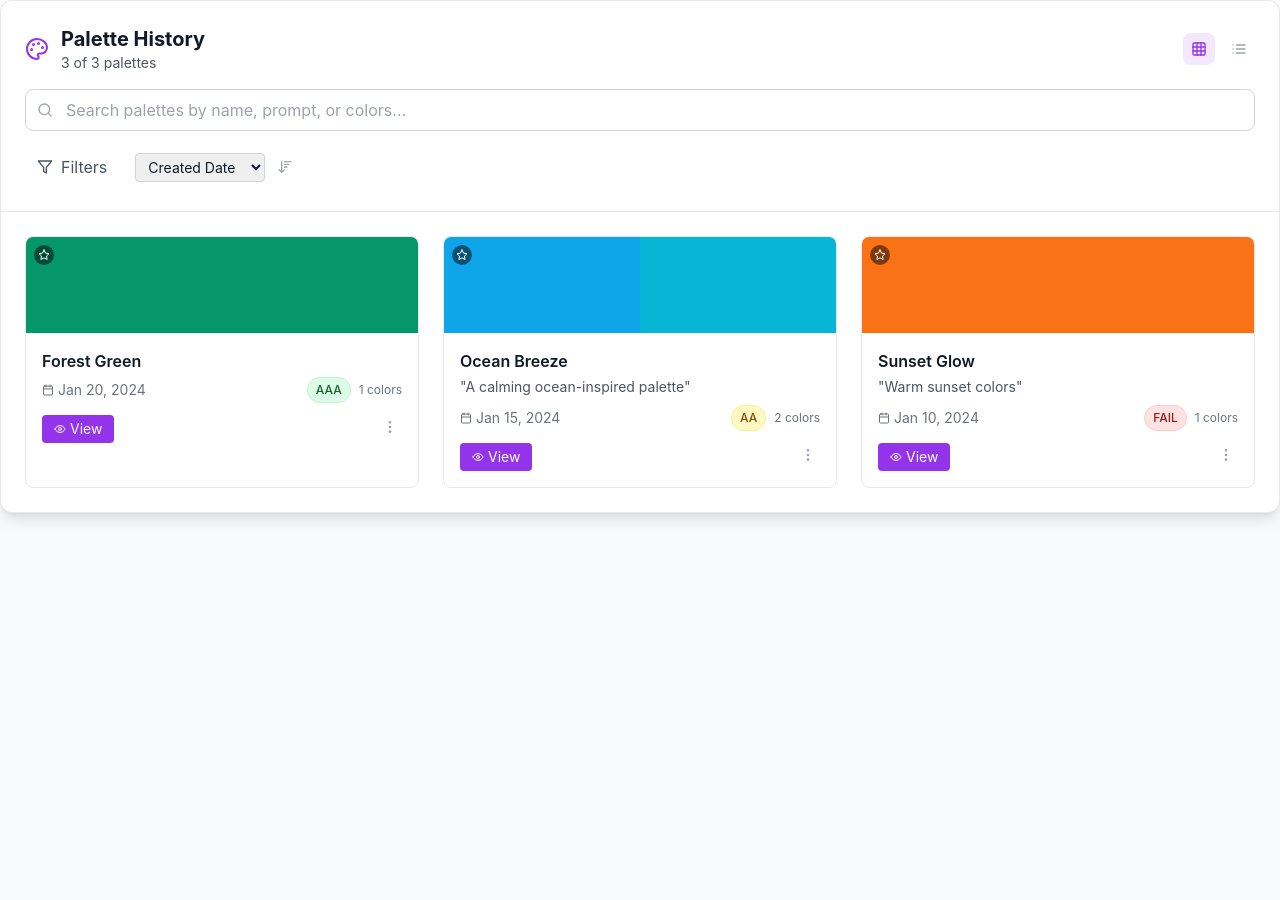
Test case: HistoryPanel › Filter Functionality › clears all filters
# Apply search and filter
Type "Ocean" into the field with placeholder "Search palettes by name, prompt, or colors..." at (640, 110), box x1=25 y1=89 x2=1255 y2=131
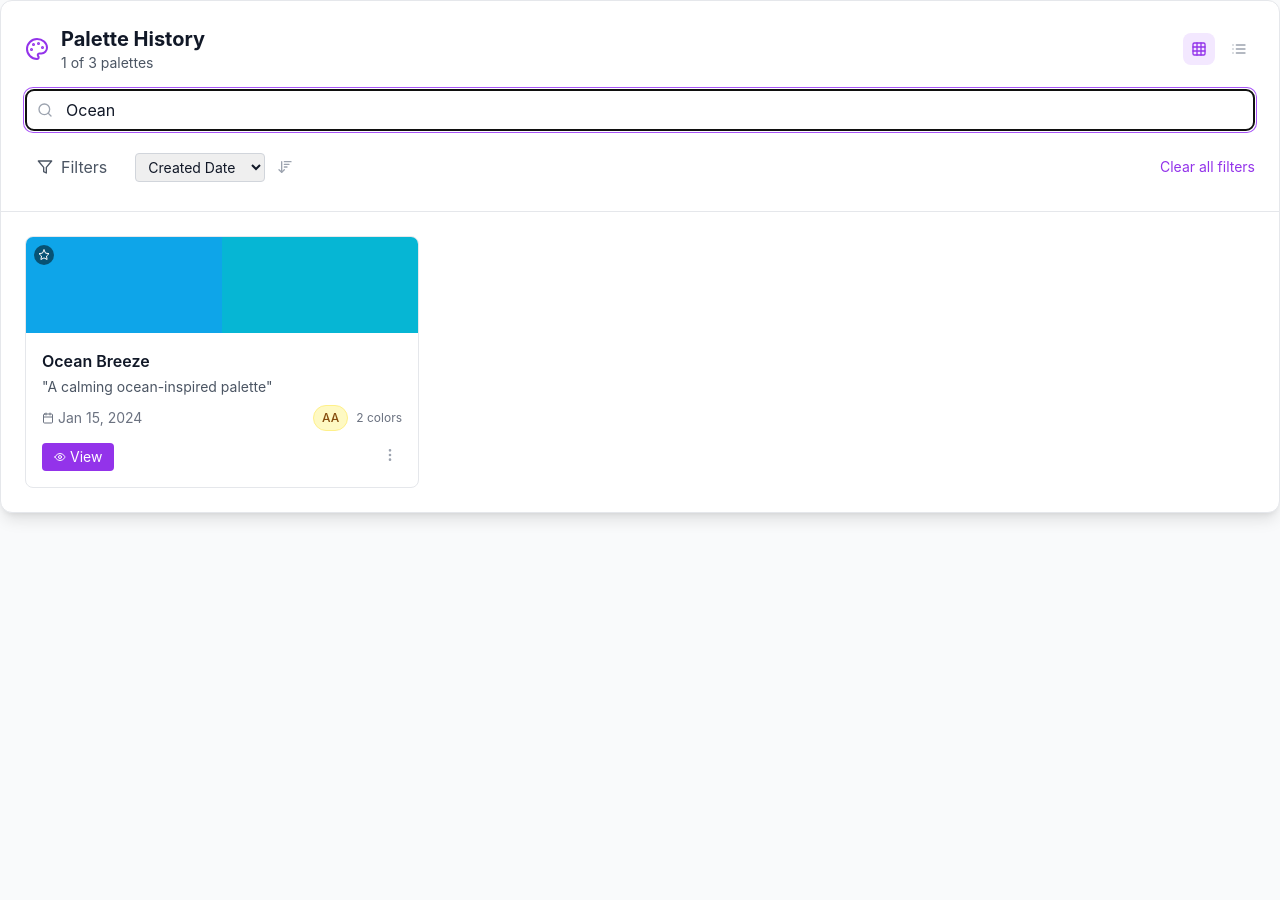
Click the button "Filters" at (72, 167), box x1=25 y1=147 x2=119 y2=187
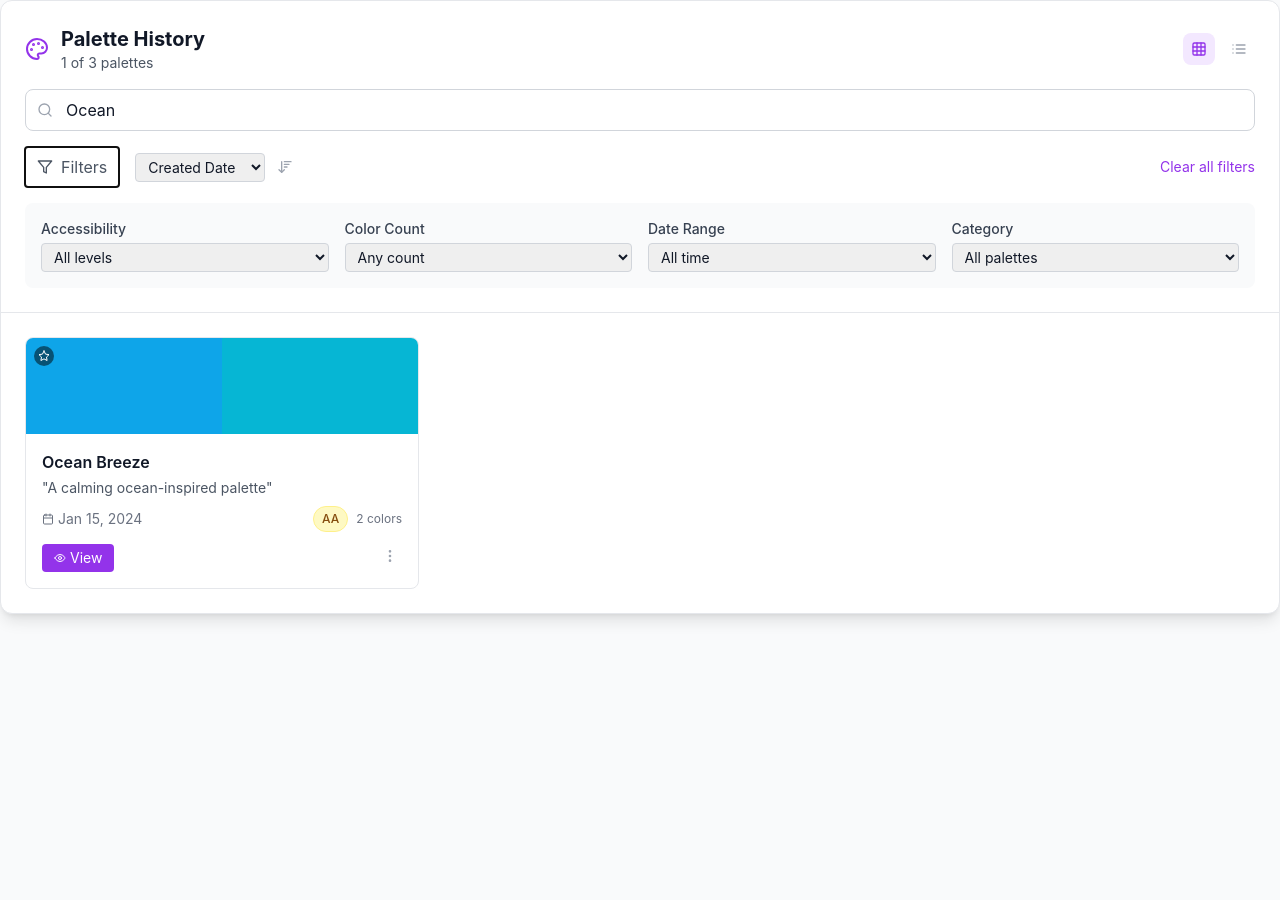
Select "AAA only" in the dropdown showing "All levels" below "Accessibility" at (185, 258), box x1=41 y1=243 x2=328 y2=272
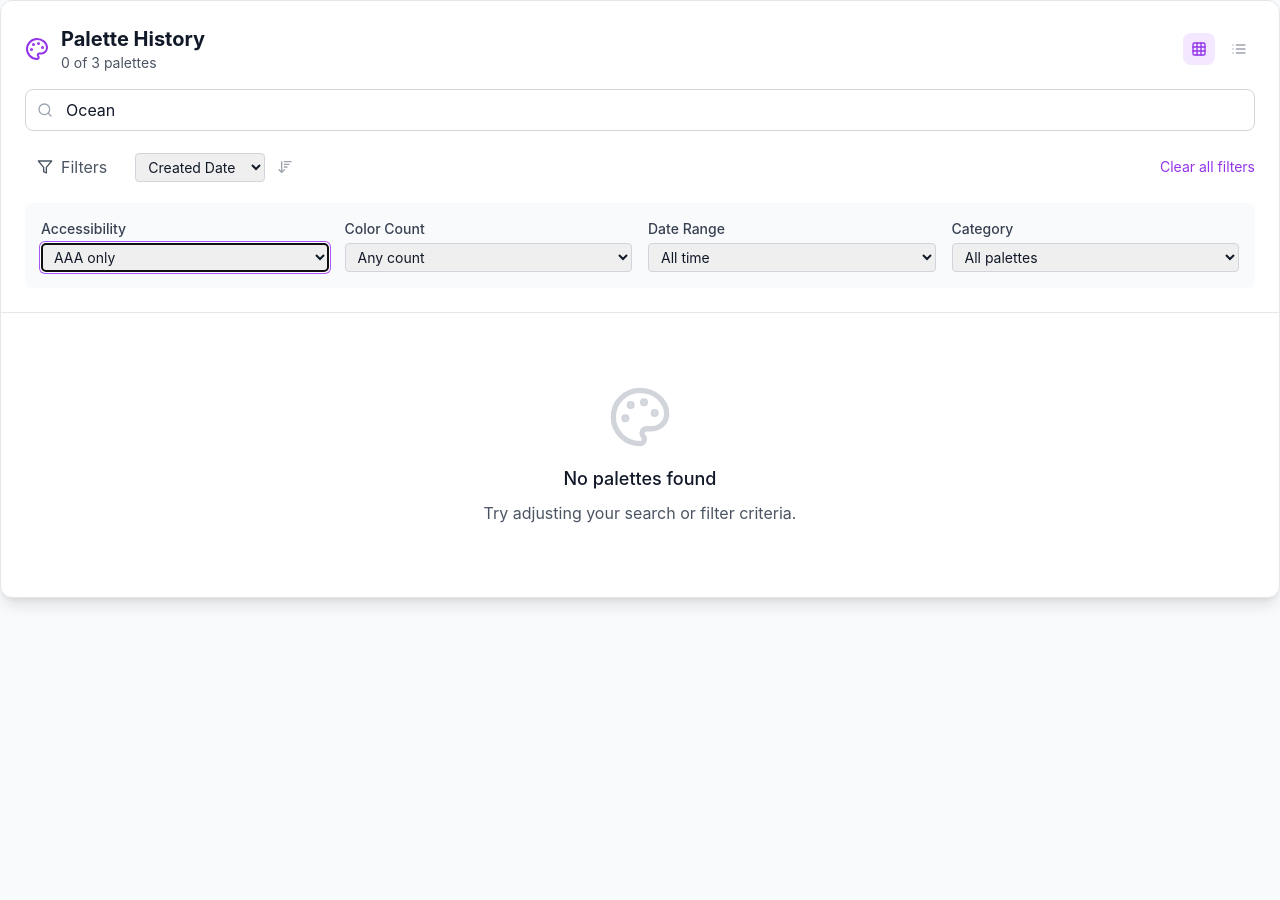
Check: the button "Clear all filters" is shown
# Clear filters
Click the button "Clear all filters" at (1208, 167), box x1=1160 y1=157 x2=1255 y2=177
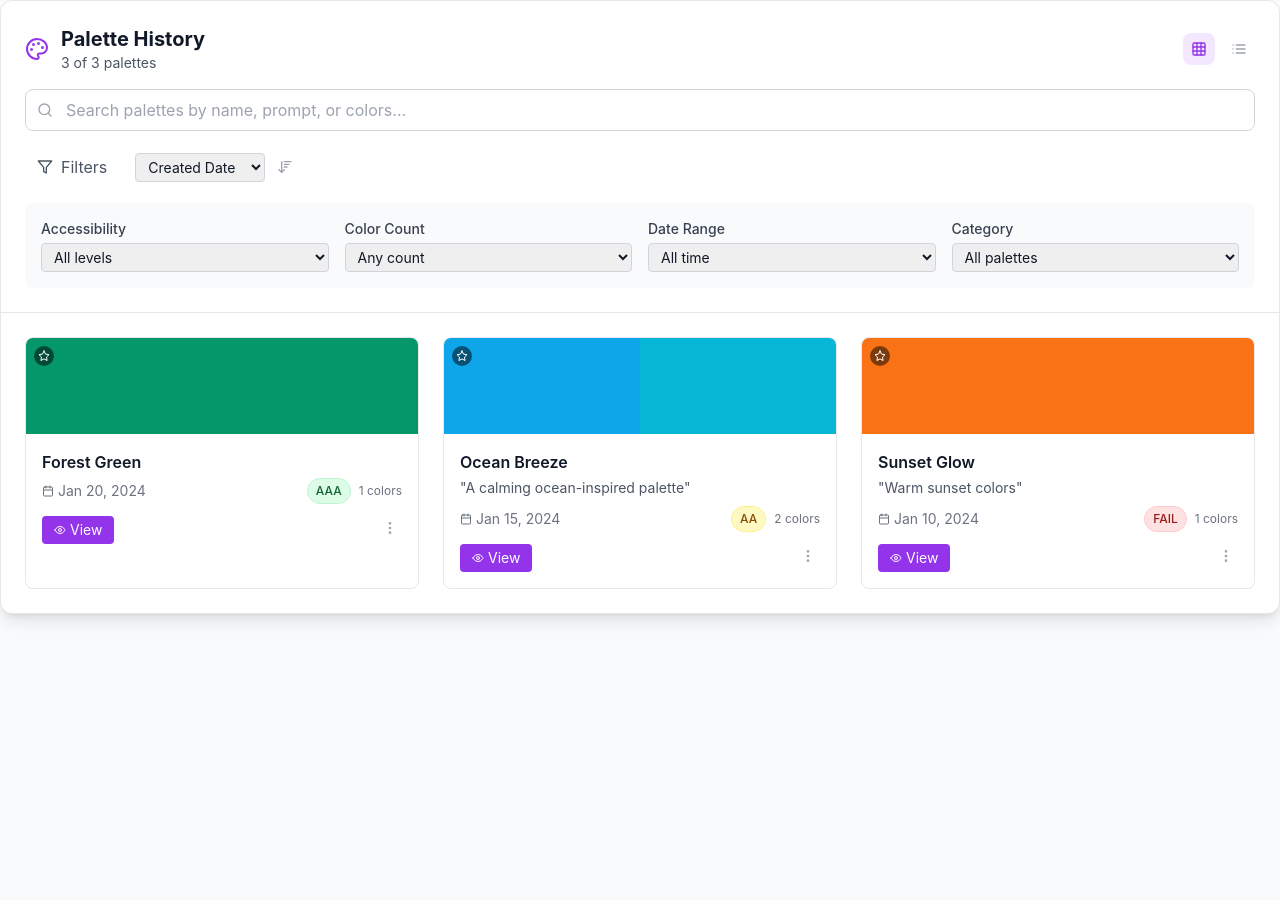
Check: the heading "Ocean Breeze" is shown, box x1=460 y1=452 x2=568 y2=472
Check: the heading "Sunset Glow" is shown, box x1=878 y1=452 x2=975 y2=472
Check: the heading "Forest Green" is shown, box x1=42 y1=452 x2=141 y2=472
